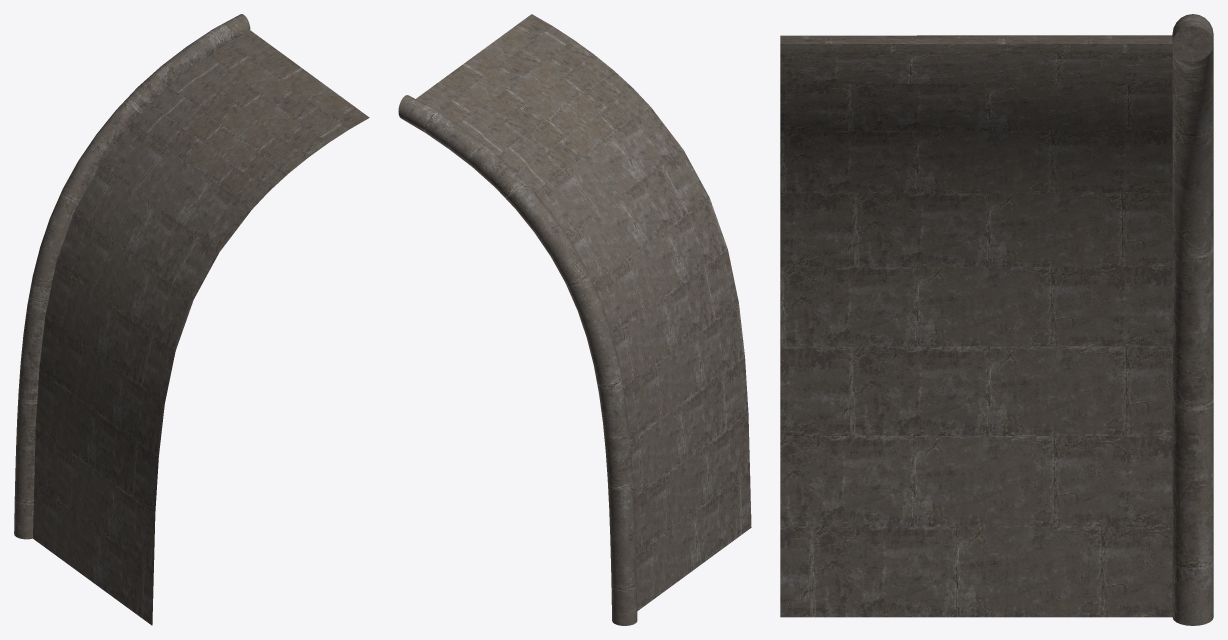
The model's file is ArcSingle.fbx.
3 renders of one model, left to right at view 1: azimuth 30°, elevation 25°; view 2: azimuth 150°, elevation 25°; view 3: azimuth 270°, elevation 25°, orthographic. The views are drawn at different scales.
Visible parts, largest first — view 1: Trim_WallArc_Single; view 2: Trim_WallArc_Single; view 3: Trim_WallArc_Single.
Boxes of the visible parts, box(x1,y1,x2,y2) form: Trim_WallArc_Single: box(14, 14, 369, 625); Trim_WallArc_Single: box(398, 14, 751, 625); Trim_WallArc_Single: box(780, 14, 1213, 625).
Bounding box in the file's own units: 840 × 1637 × 840.
